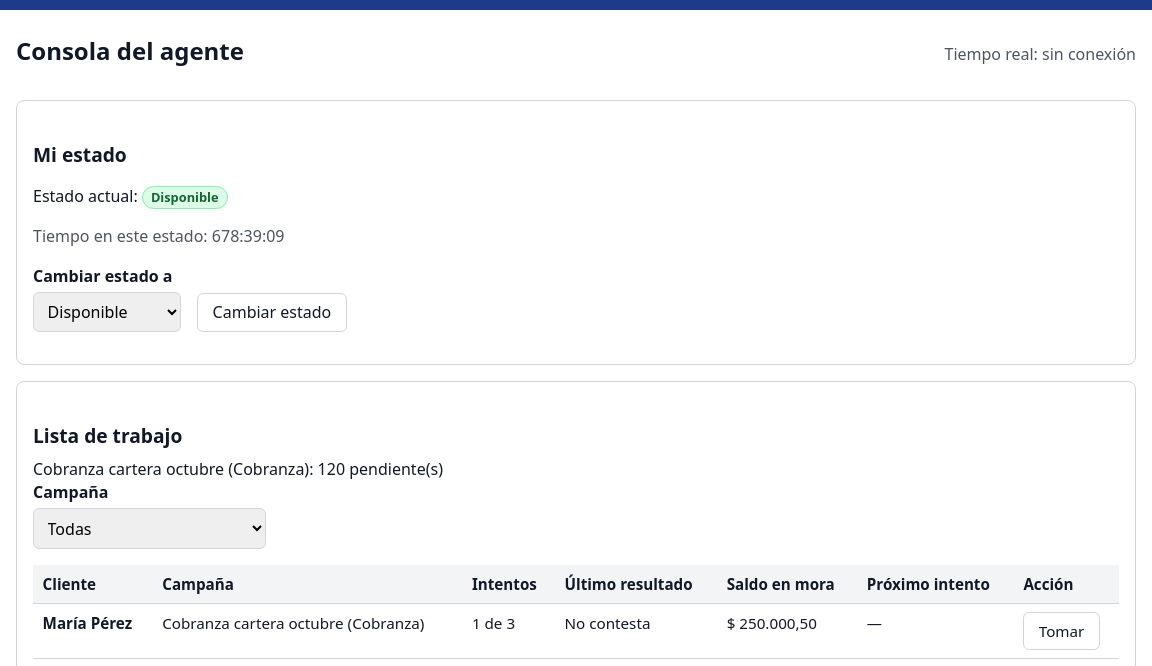
Test case: Consola del agente: flujo completo con SoftphoneFalso › nunca muestra un teléfono E.164 completo
Click the button named "Tomar registro de María Pérez". click: {"x": 1062, "y": 631}
box: [1023, 612, 1100, 650]
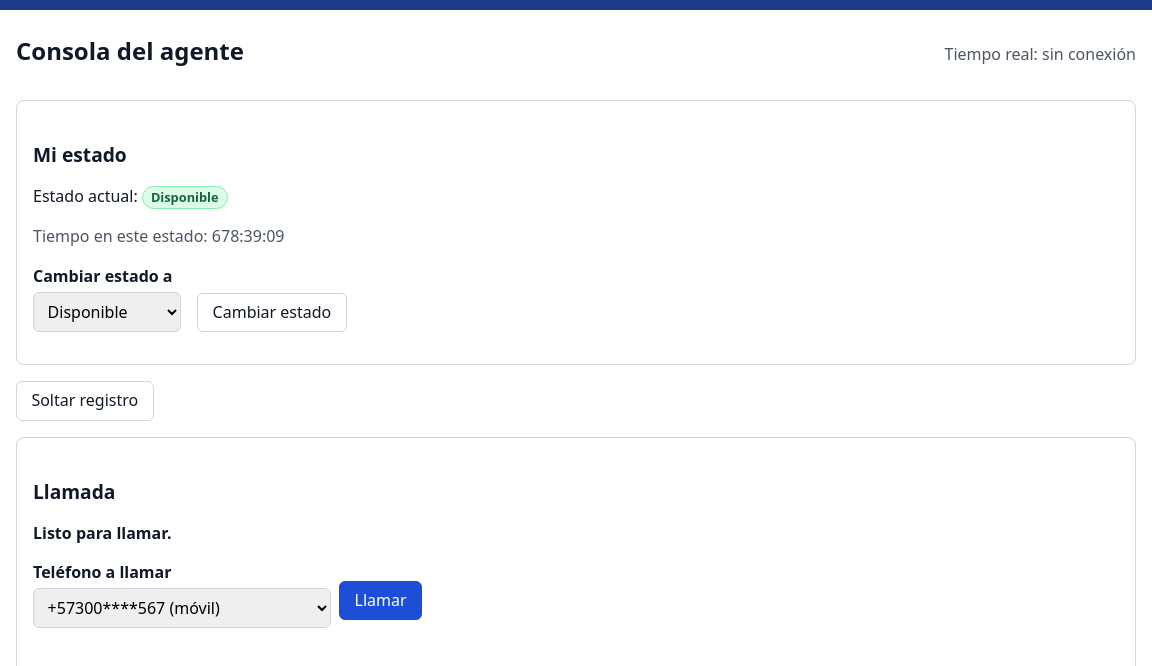
Check: the button "Llamar" is enabled
Click the button "Llamar". click: {"x": 381, "y": 600}
box: [339, 581, 422, 620]
(page scrolled)
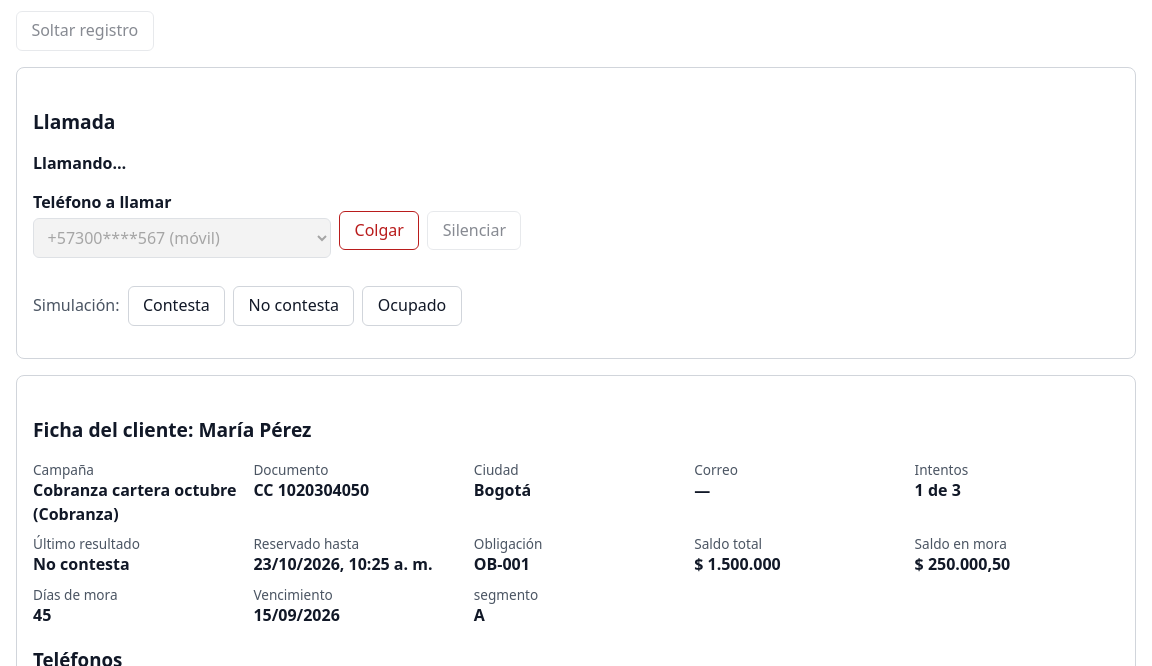
Click the button "Contesta". click: {"x": 176, "y": 306}
box: [128, 286, 225, 326]
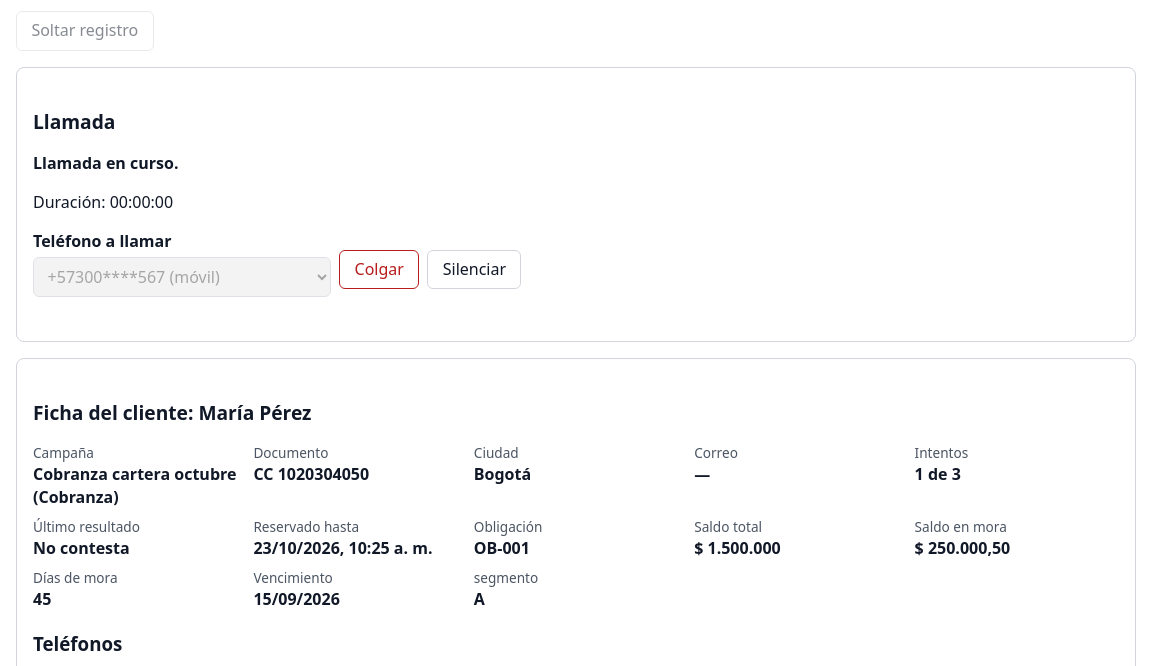
Click the button "Colgar". click: {"x": 379, "y": 270}
box: [339, 250, 419, 290]
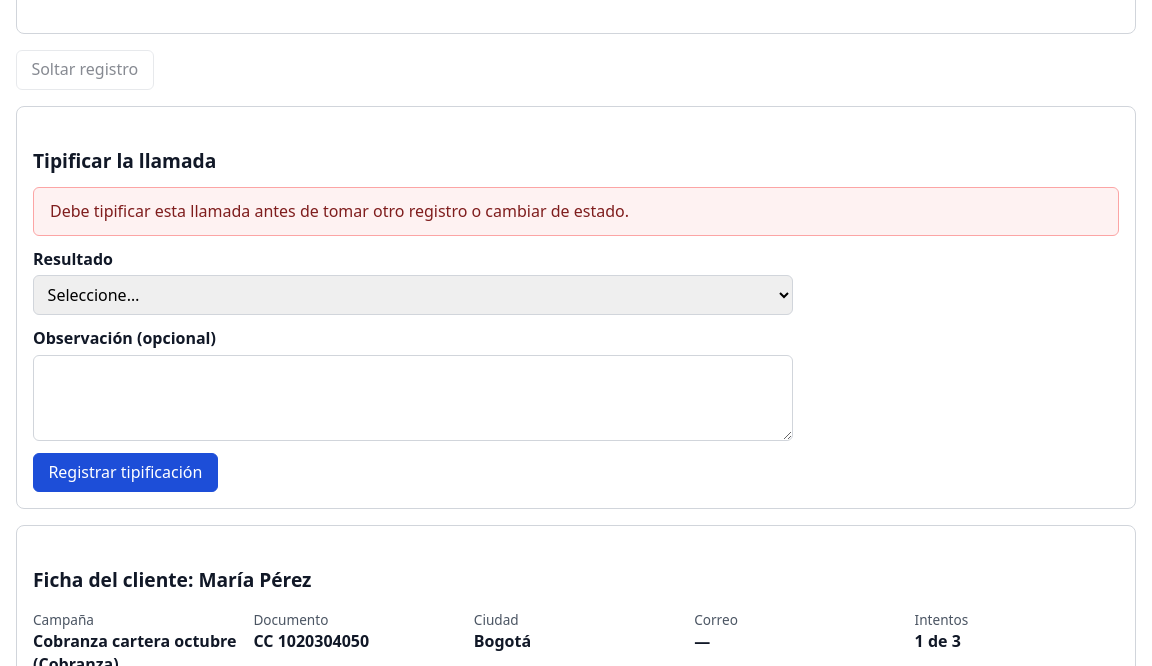
Check: the heading "Tipificar la llamada" is shown, box [33, 147, 216, 174]
